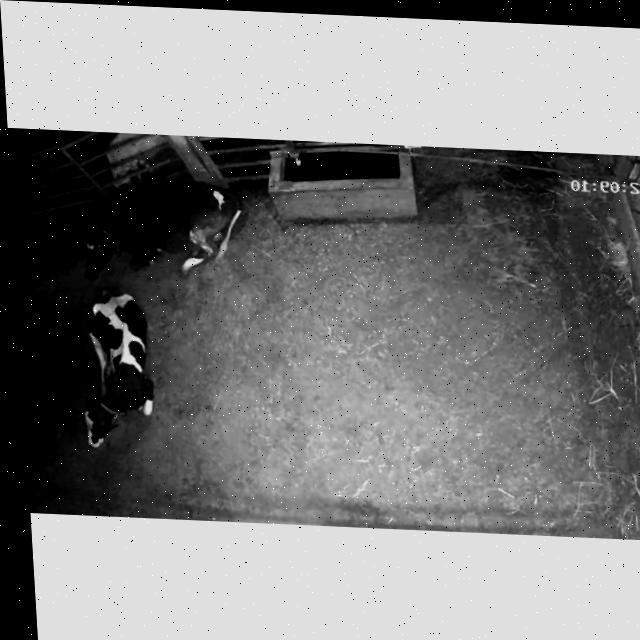lay: (53, 165, 260, 289), (65, 282, 166, 457)
